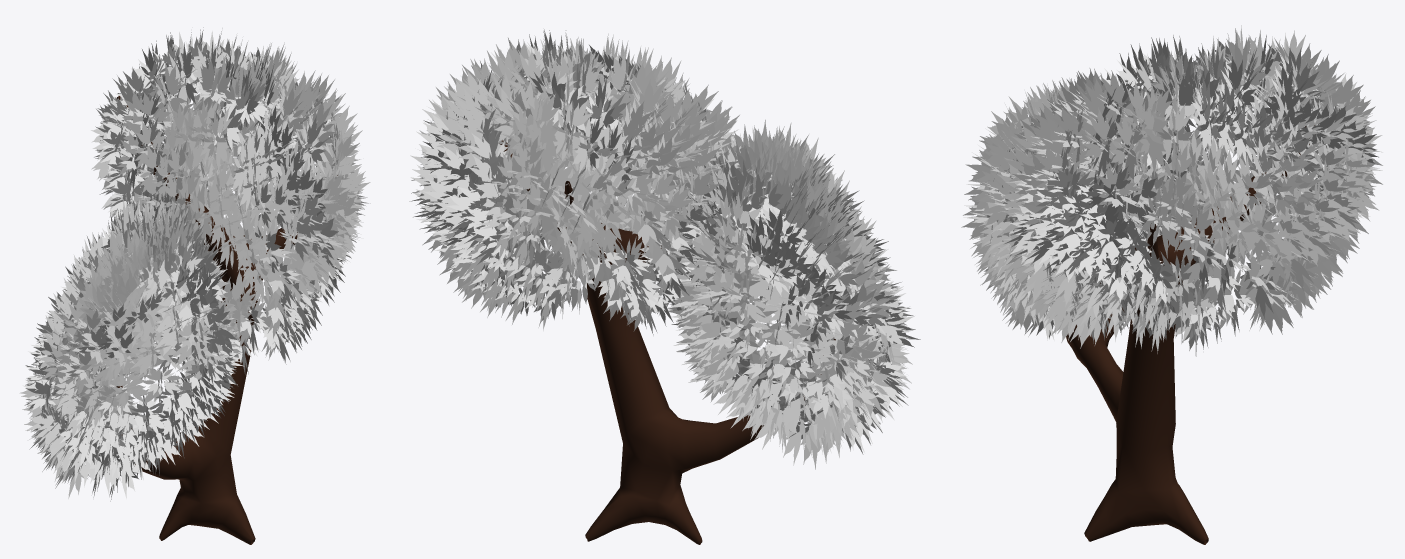
File: Chal_Chal1.fbx
3 renders of one model, left to right at view 1: azimuth 30°, elevation 25°; view 2: azimuth 150°, elevation 25°; view 3: azimuth 270°, elevation 25°, orthographic. The views are drawn at different scales.
Parts seen in each view (by area): view 1: Folha_ChalChal.001, Chal Chal_Crescido; view 2: Folha_ChalChal.001, Chal Chal_Crescido; view 3: Folha_ChalChal.001, Chal Chal_Crescido.
Boxes of the visible parts, x1,y1,x2,y2 form: Folha_ChalChal.001: (19,27,370,501); Chal Chal_Crescido: (116,96,337,544); Folha_ChalChal.001: (409,29,920,469); Chal Chal_Crescido: (499,140,835,544); Folha_ChalChal.001: (961,25,1382,356); Chal Chal_Crescido: (1066,125,1314,544).
Size of the model in its own units: 368 by 422 by 314.
